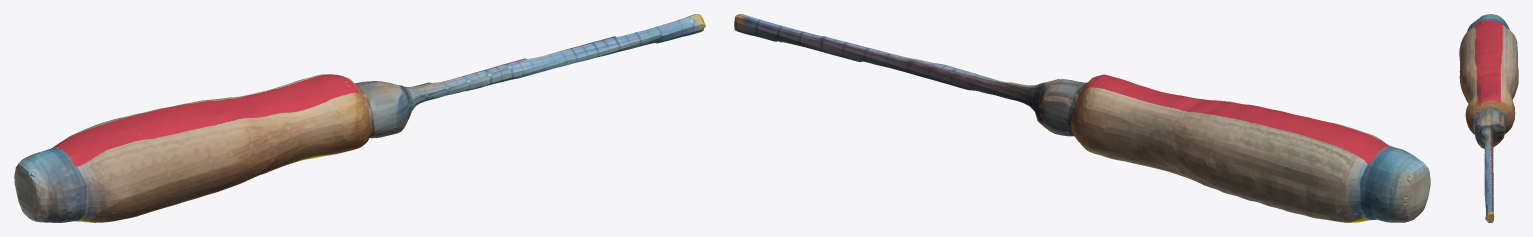
File: real_flat_screwdriver.obj
The picture shows the model from 3 angles, left to right: view 1: azimuth 30°, elevation 25°; view 2: azimuth 150°, elevation 25°; view 3: azimuth 270°, elevation 25°; orthographic projection. The views are drawn at different scales.
Bounding box in the file's own units: 0.2604 × 0.0301 × 0.0339.
Materials: 1 (1 with a texture image).
